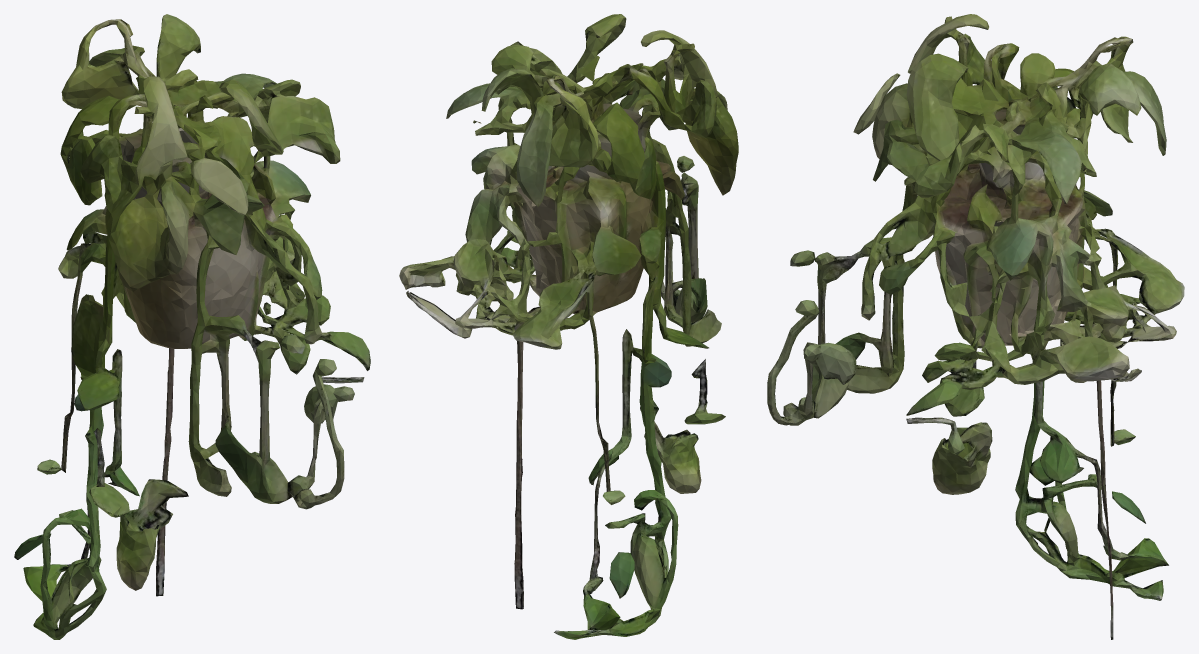
Rendered from ast_066240429d81.glb.
3 views of the same model, side by side, from view 1: azimuth 30°, elevation 25°; view 2: azimuth 150°, elevation 25°; view 3: azimuth 270°, elevation 25° (orthographic). The views are drawn at different scales.
Visible parts, largest first — view 1: geometry_0; view 2: geometry_0; view 3: geometry_0.
Part boxes in pixels (x1=…): geometry_0: x1=14, y1=14, x2=370, y2=639; geometry_0: x1=399, y1=14, x2=738, y2=639; geometry_0: x1=767, y1=14, x2=1184, y2=639.
Bounding box in the file's own units: 0.4819 × 0.9992 × 0.6458.
1 material, 1 textured.
